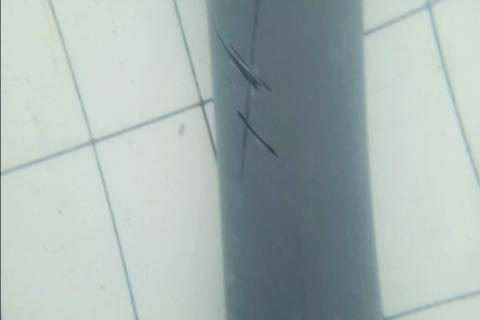keretakan: (216, 0, 281, 188)
